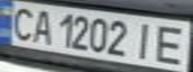0: (87, 15, 109, 54)
1: (51, 10, 75, 48)
2: (106, 17, 133, 59), (69, 12, 90, 52)
A: (27, 7, 57, 45)
C: (6, 3, 39, 42)
E: (151, 21, 193, 65)
I: (130, 19, 160, 62)
